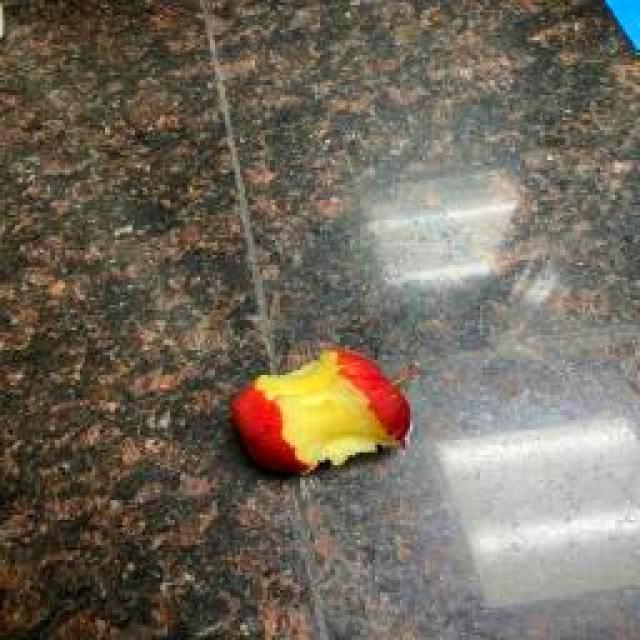Apple: (231, 350, 410, 473)
